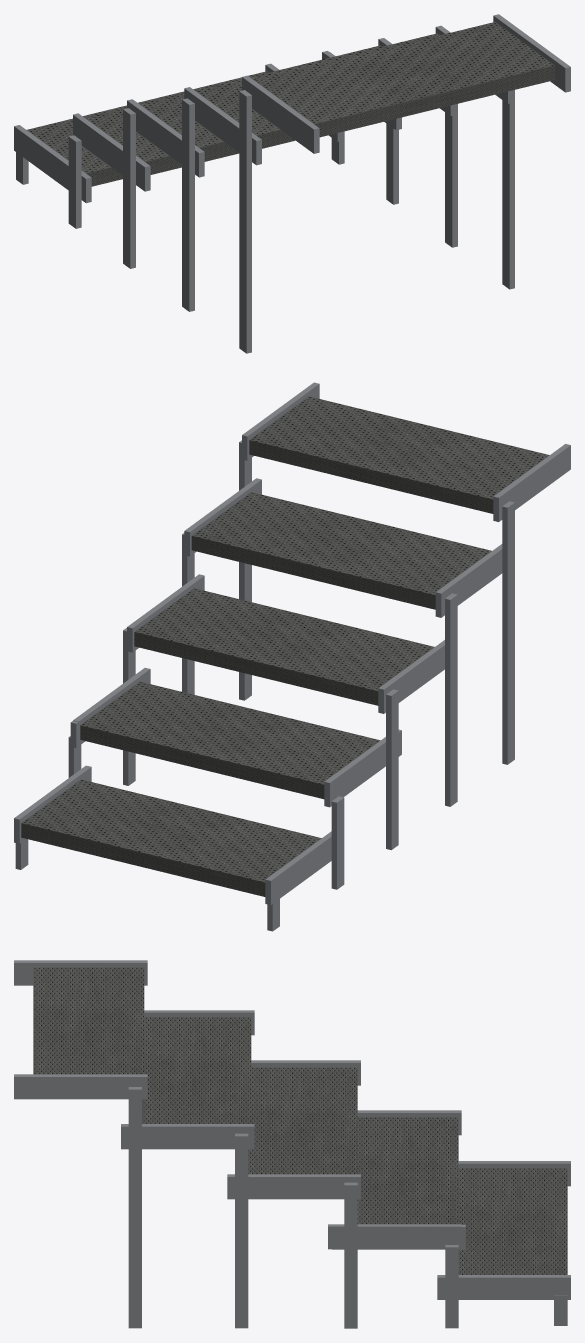
The model's file is Stairs.fbx.
3 renders of one model, top to bottom at view 1: azimuth 30°, elevation 25°; view 2: azimuth 150°, elevation 25°; view 3: azimuth 270°, elevation 25°, orthographic. The views are drawn at different scales.
Visible parts, largest first — view 1: Cube_13_2; view 2: Cube_13_2; view 3: Cube_13_2.
Part boxes in pixels (<box>): Cube_13_2: <box>14,14,570,353</box>; Cube_13_2: <box>14,382,570,931</box>; Cube_13_2: <box>14,960,570,1328</box>.
Size of the model in its own units: 213 by 203 by 412.
Materials: 2 (1 with a texture image).
